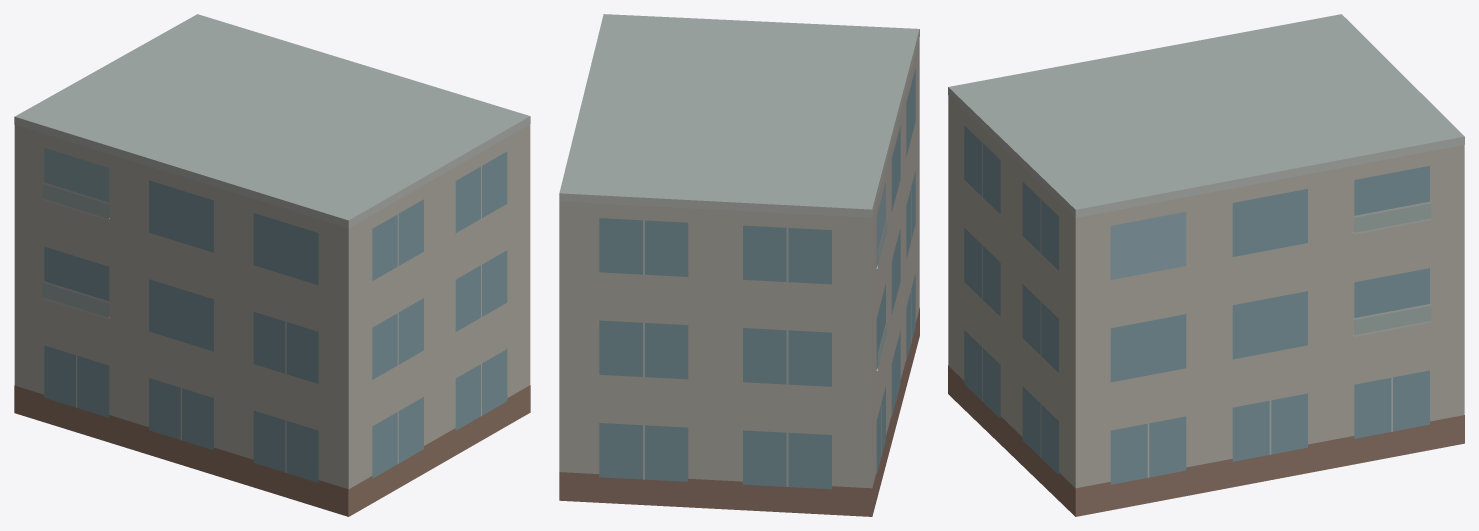
Rendered from survey-upis-32716639.glb.
The picture shows the model from 3 angles, left to right: view 1: azimuth 30°, elevation 25°; view 2: azimuth 150°, elevation 25°; view 3: azimuth 270°, elevation 25°; orthographic projection. The views are drawn at different scales.
Visible parts, largest first — view 1: survey-upis-32716639.tmp; view 2: survey-upis-32716639.tmp; view 3: survey-upis-32716639.tmp.
Boxes of the visible parts, x1,y1,x2,y2 form: survey-upis-32716639.tmp: (14,14,530,516); survey-upis-32716639.tmp: (559,14,919,516); survey-upis-32716639.tmp: (948,14,1464,516).
Bounding box in the file's own units: 12.53 × 9.15 × 13.96.
